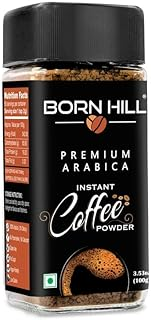Coffee: (2, 3, 151, 314)
